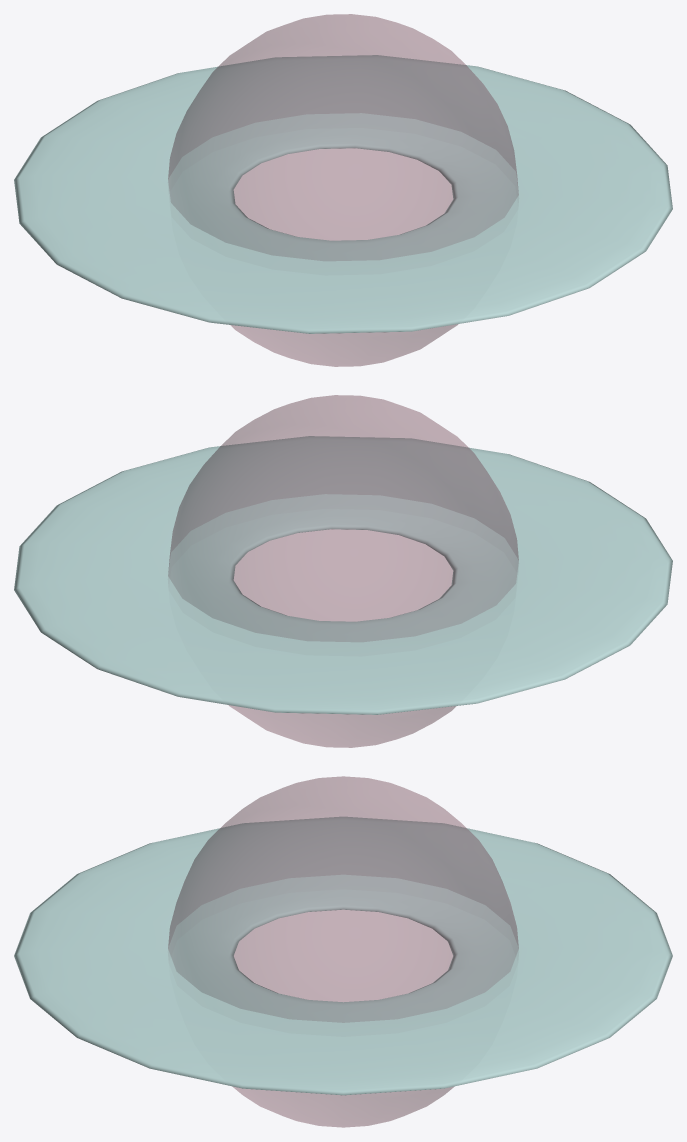
Rendered from planet4.glb.
3 renders of one model, top to bottom at view 1: azimuth 30°, elevation 25°; view 2: azimuth 150°, elevation 25°; view 3: azimuth 270°, elevation 25°, orthographic.
Parts seen in each view (by area): view 1: planet1; view 2: planet1; view 3: planet1.
Part boxes in pixels (bbox=[...]): planet1: bbox=[14, 14, 672, 366]; planet1: bbox=[14, 395, 672, 747]; planet1: bbox=[14, 776, 672, 1127].
Bounding box in the file's own units: 7.5 × 4 × 7.5.
